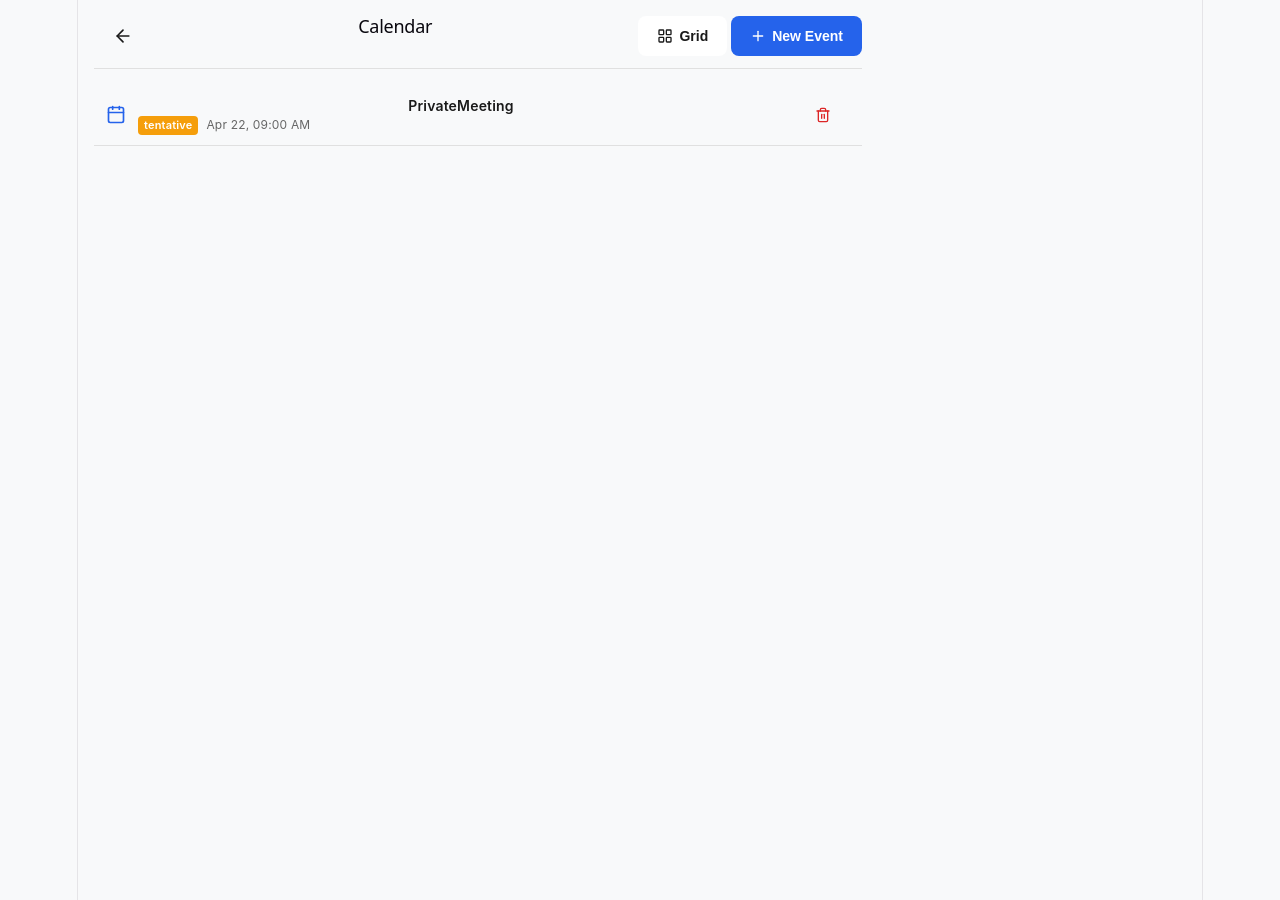
Scenario: CalendarManager › renders the public booking toggle unchecked by default in event detail
Click the text "PrivateMeeting" at (461, 106), box [408,97,514,114]
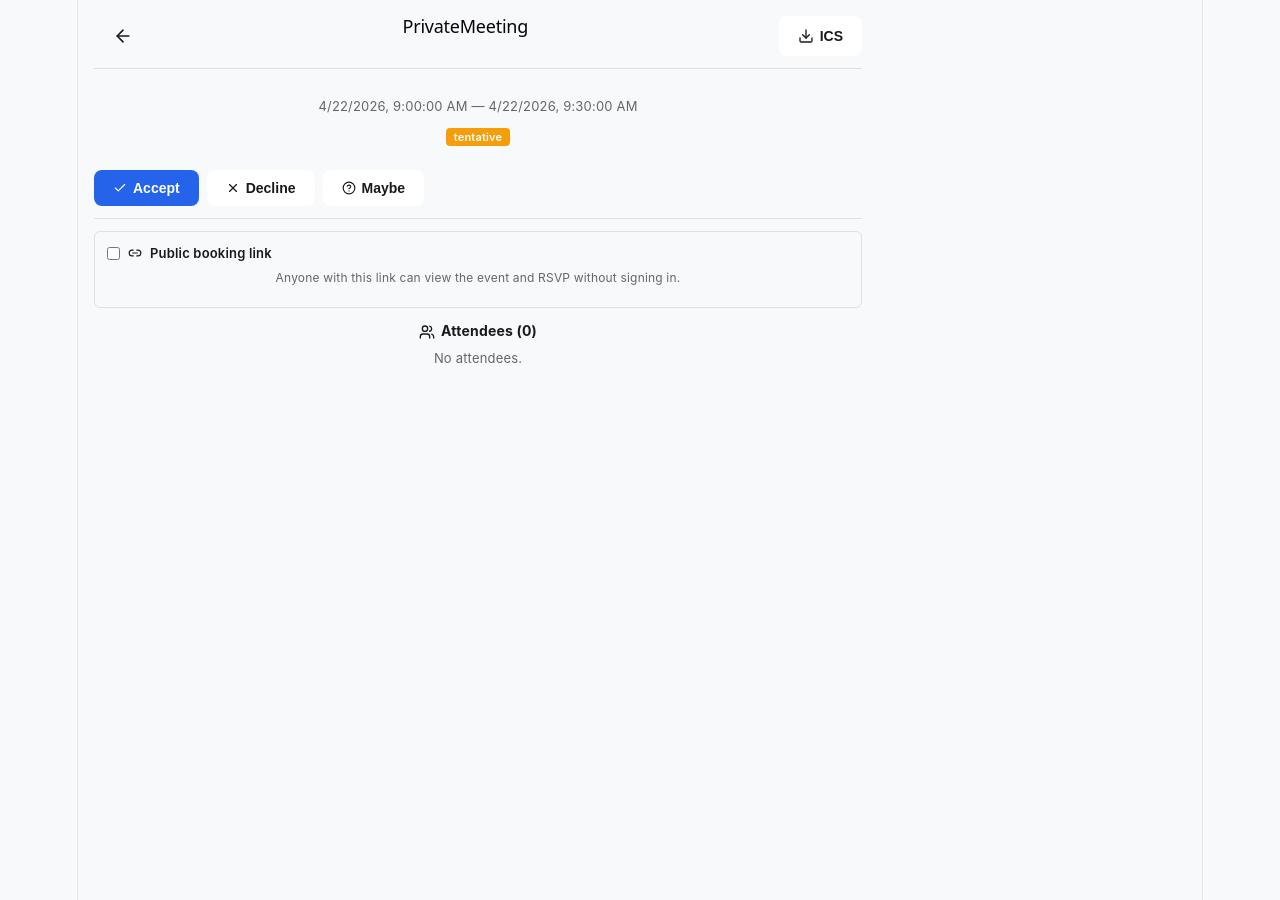
Result: the text "Public booking link" is shown at [107,244,272,260]
Result: the checkbox named "external participants" is not checked at [107,247,120,260]
